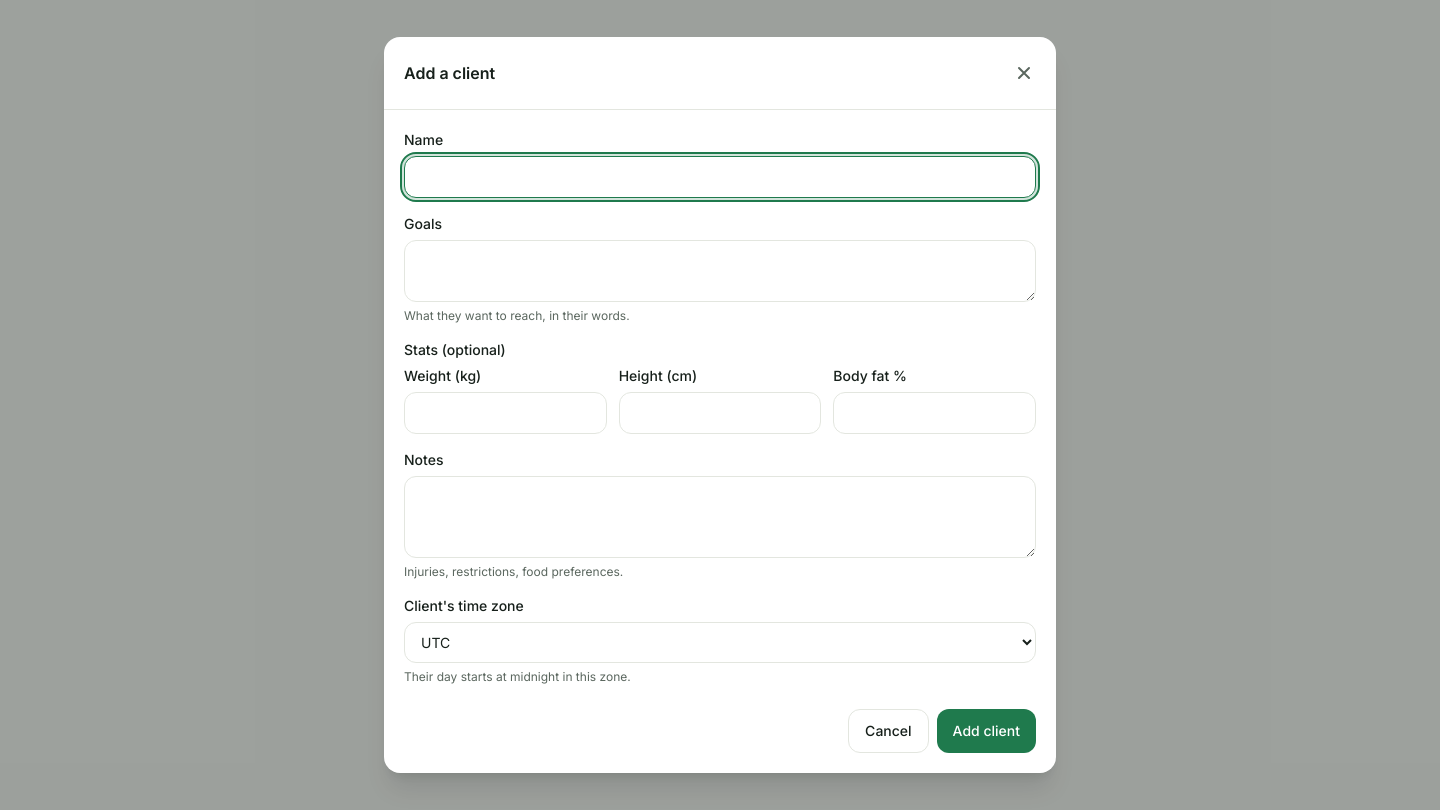
Test: ClientFormModal › explains the client limit and links to pricing
Type "Eleventh" into the field labelled "Name" at (720, 177), box x1=404 y1=156 x2=1036 y2=198
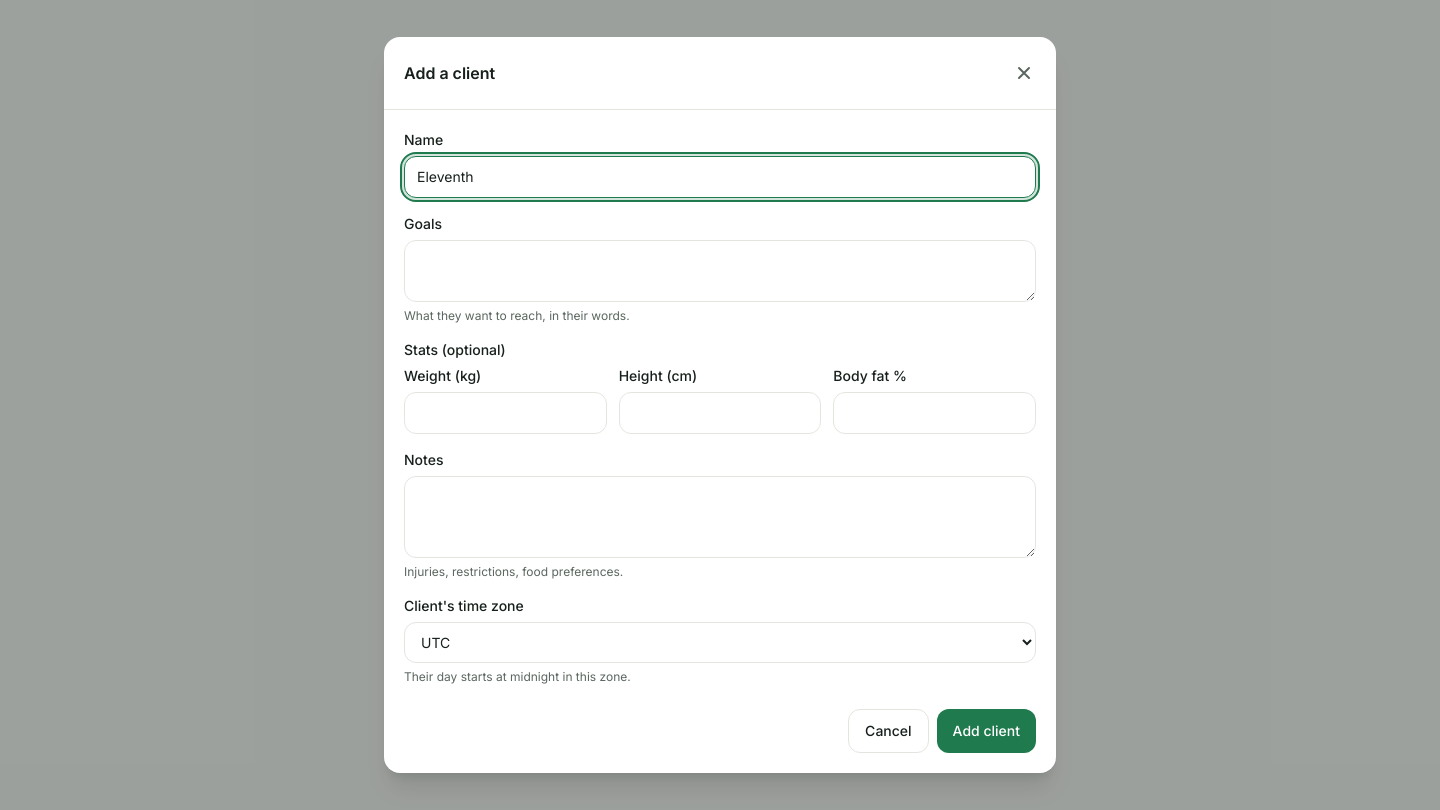
Click the button "Add client" at (986, 731), box x1=937 y1=709 x2=1036 y2=753
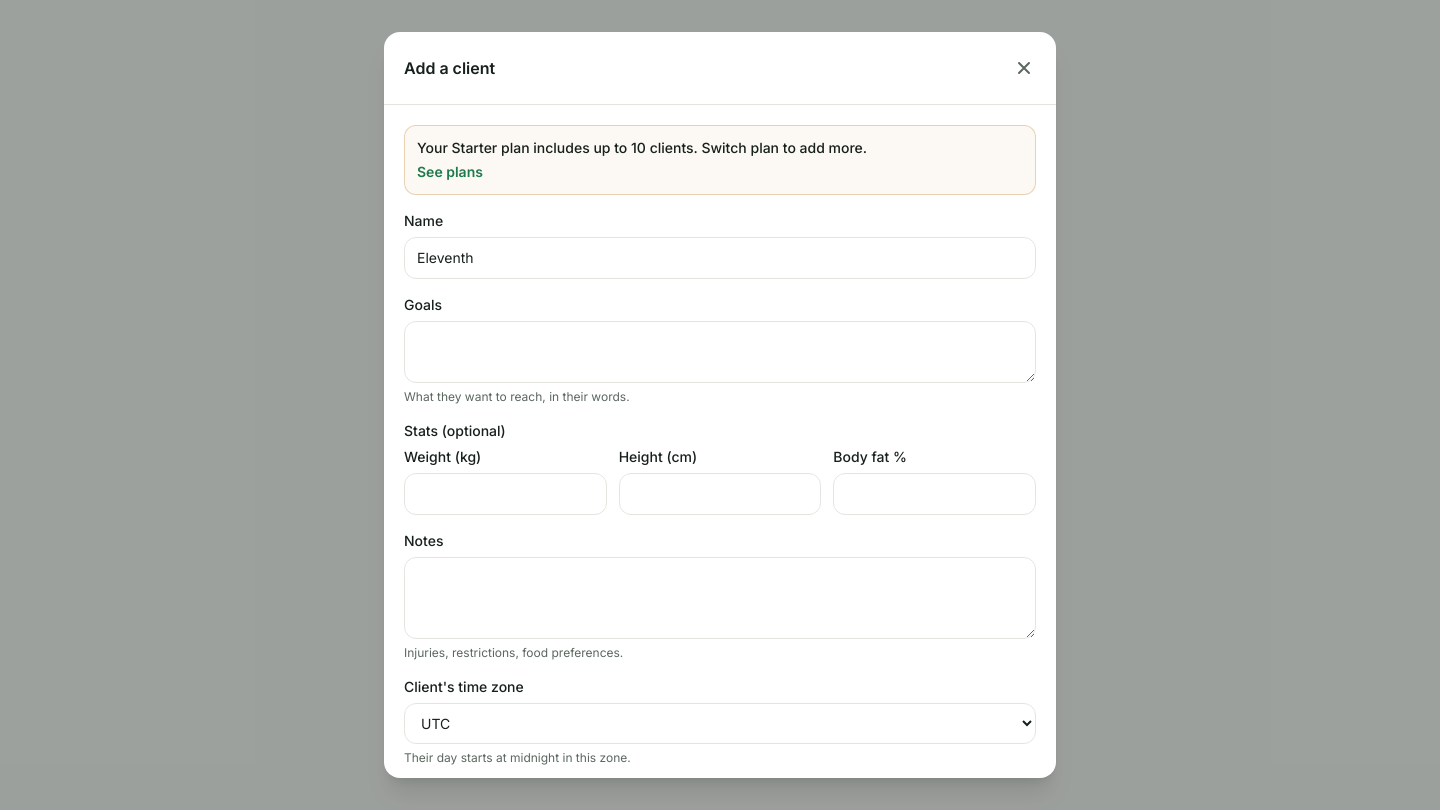
Check: the message shows "Starter plan includes up to 10 clients", box x1=417 y1=139 x2=867 y2=156
